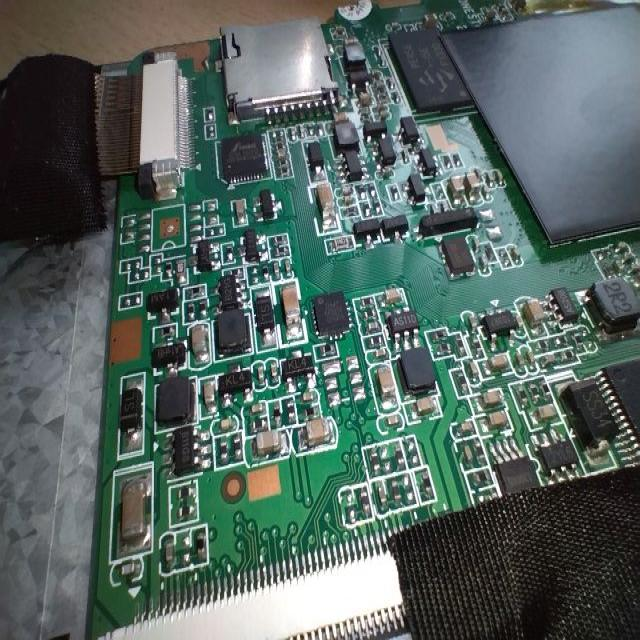capacitor: (109, 463, 159, 554), (362, 359, 394, 417)
resistor: (187, 520, 215, 574), (211, 430, 231, 472), (228, 430, 248, 471)
